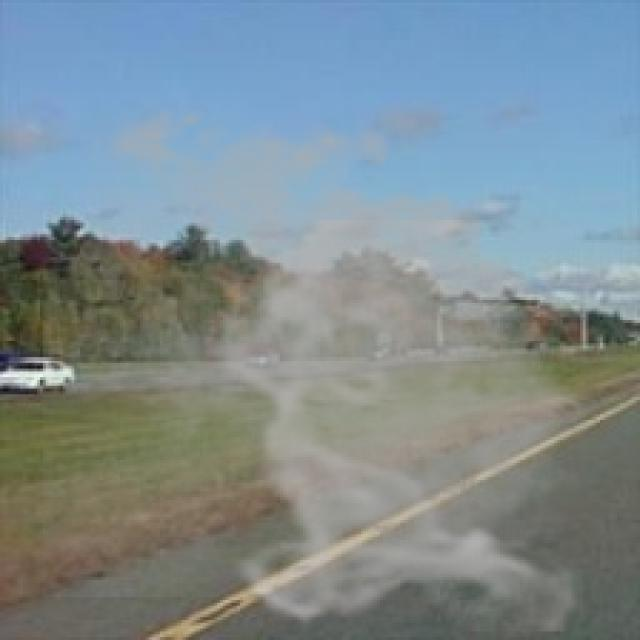smoke: (43, 91, 608, 632)
